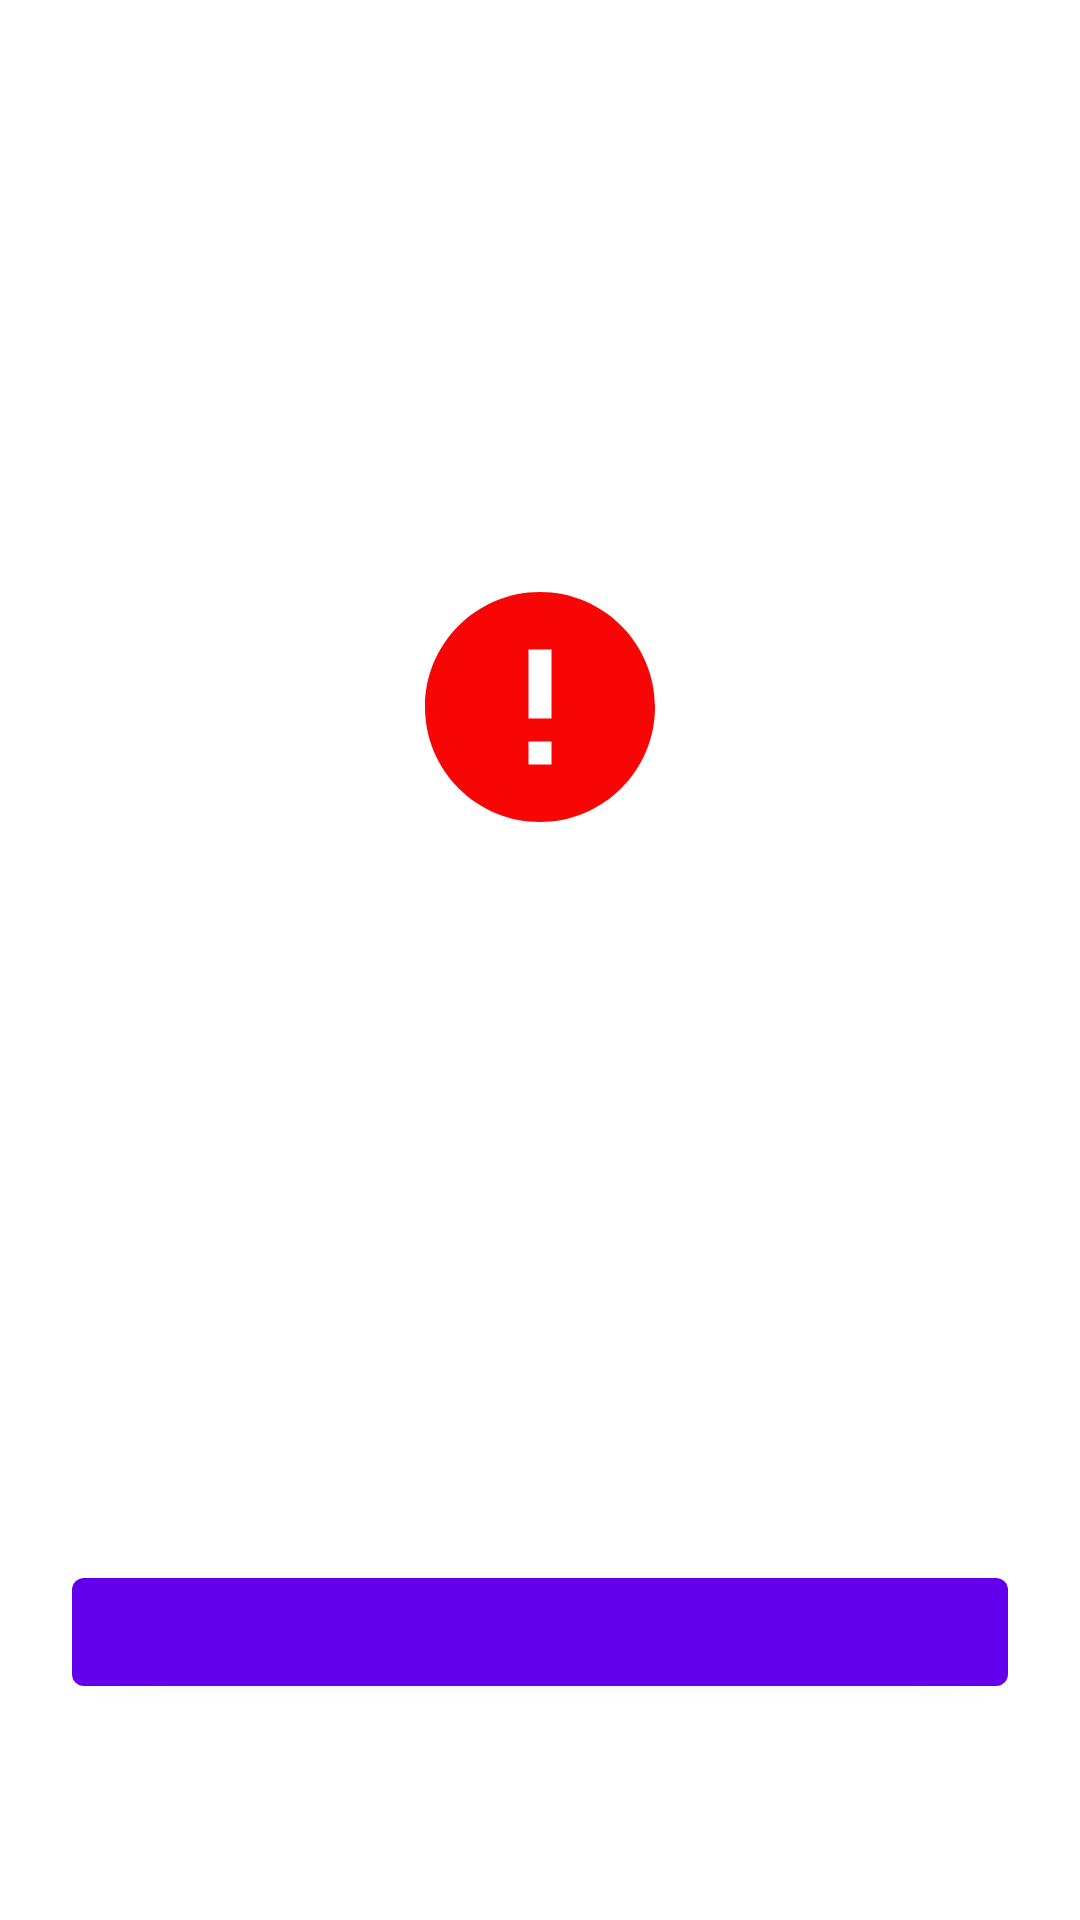

Where to tap for icons on this 1080*1920 app screen, as (x=x, y=y):
error: (x=540, y=707)
